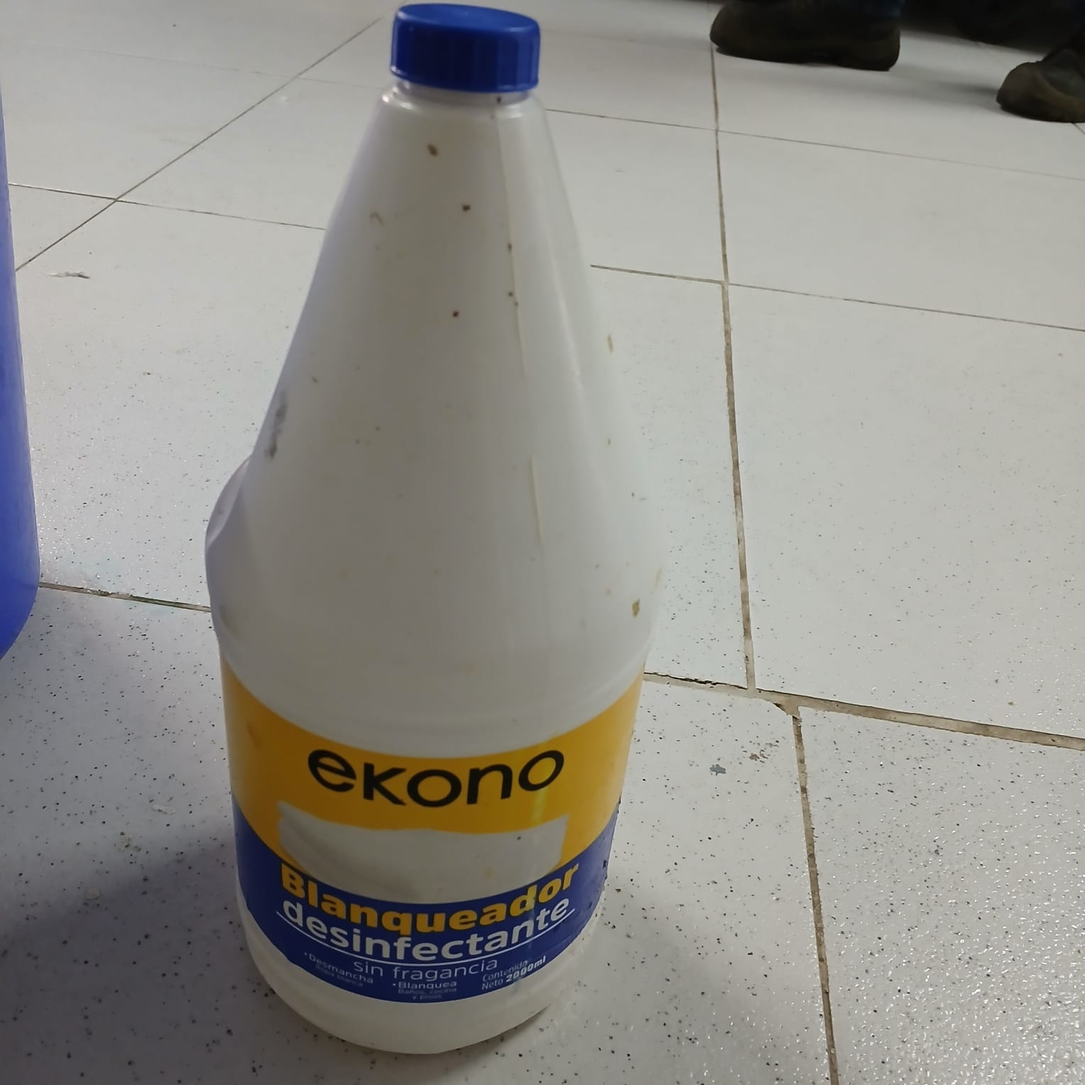Plastico: (203, 3, 660, 1058)
